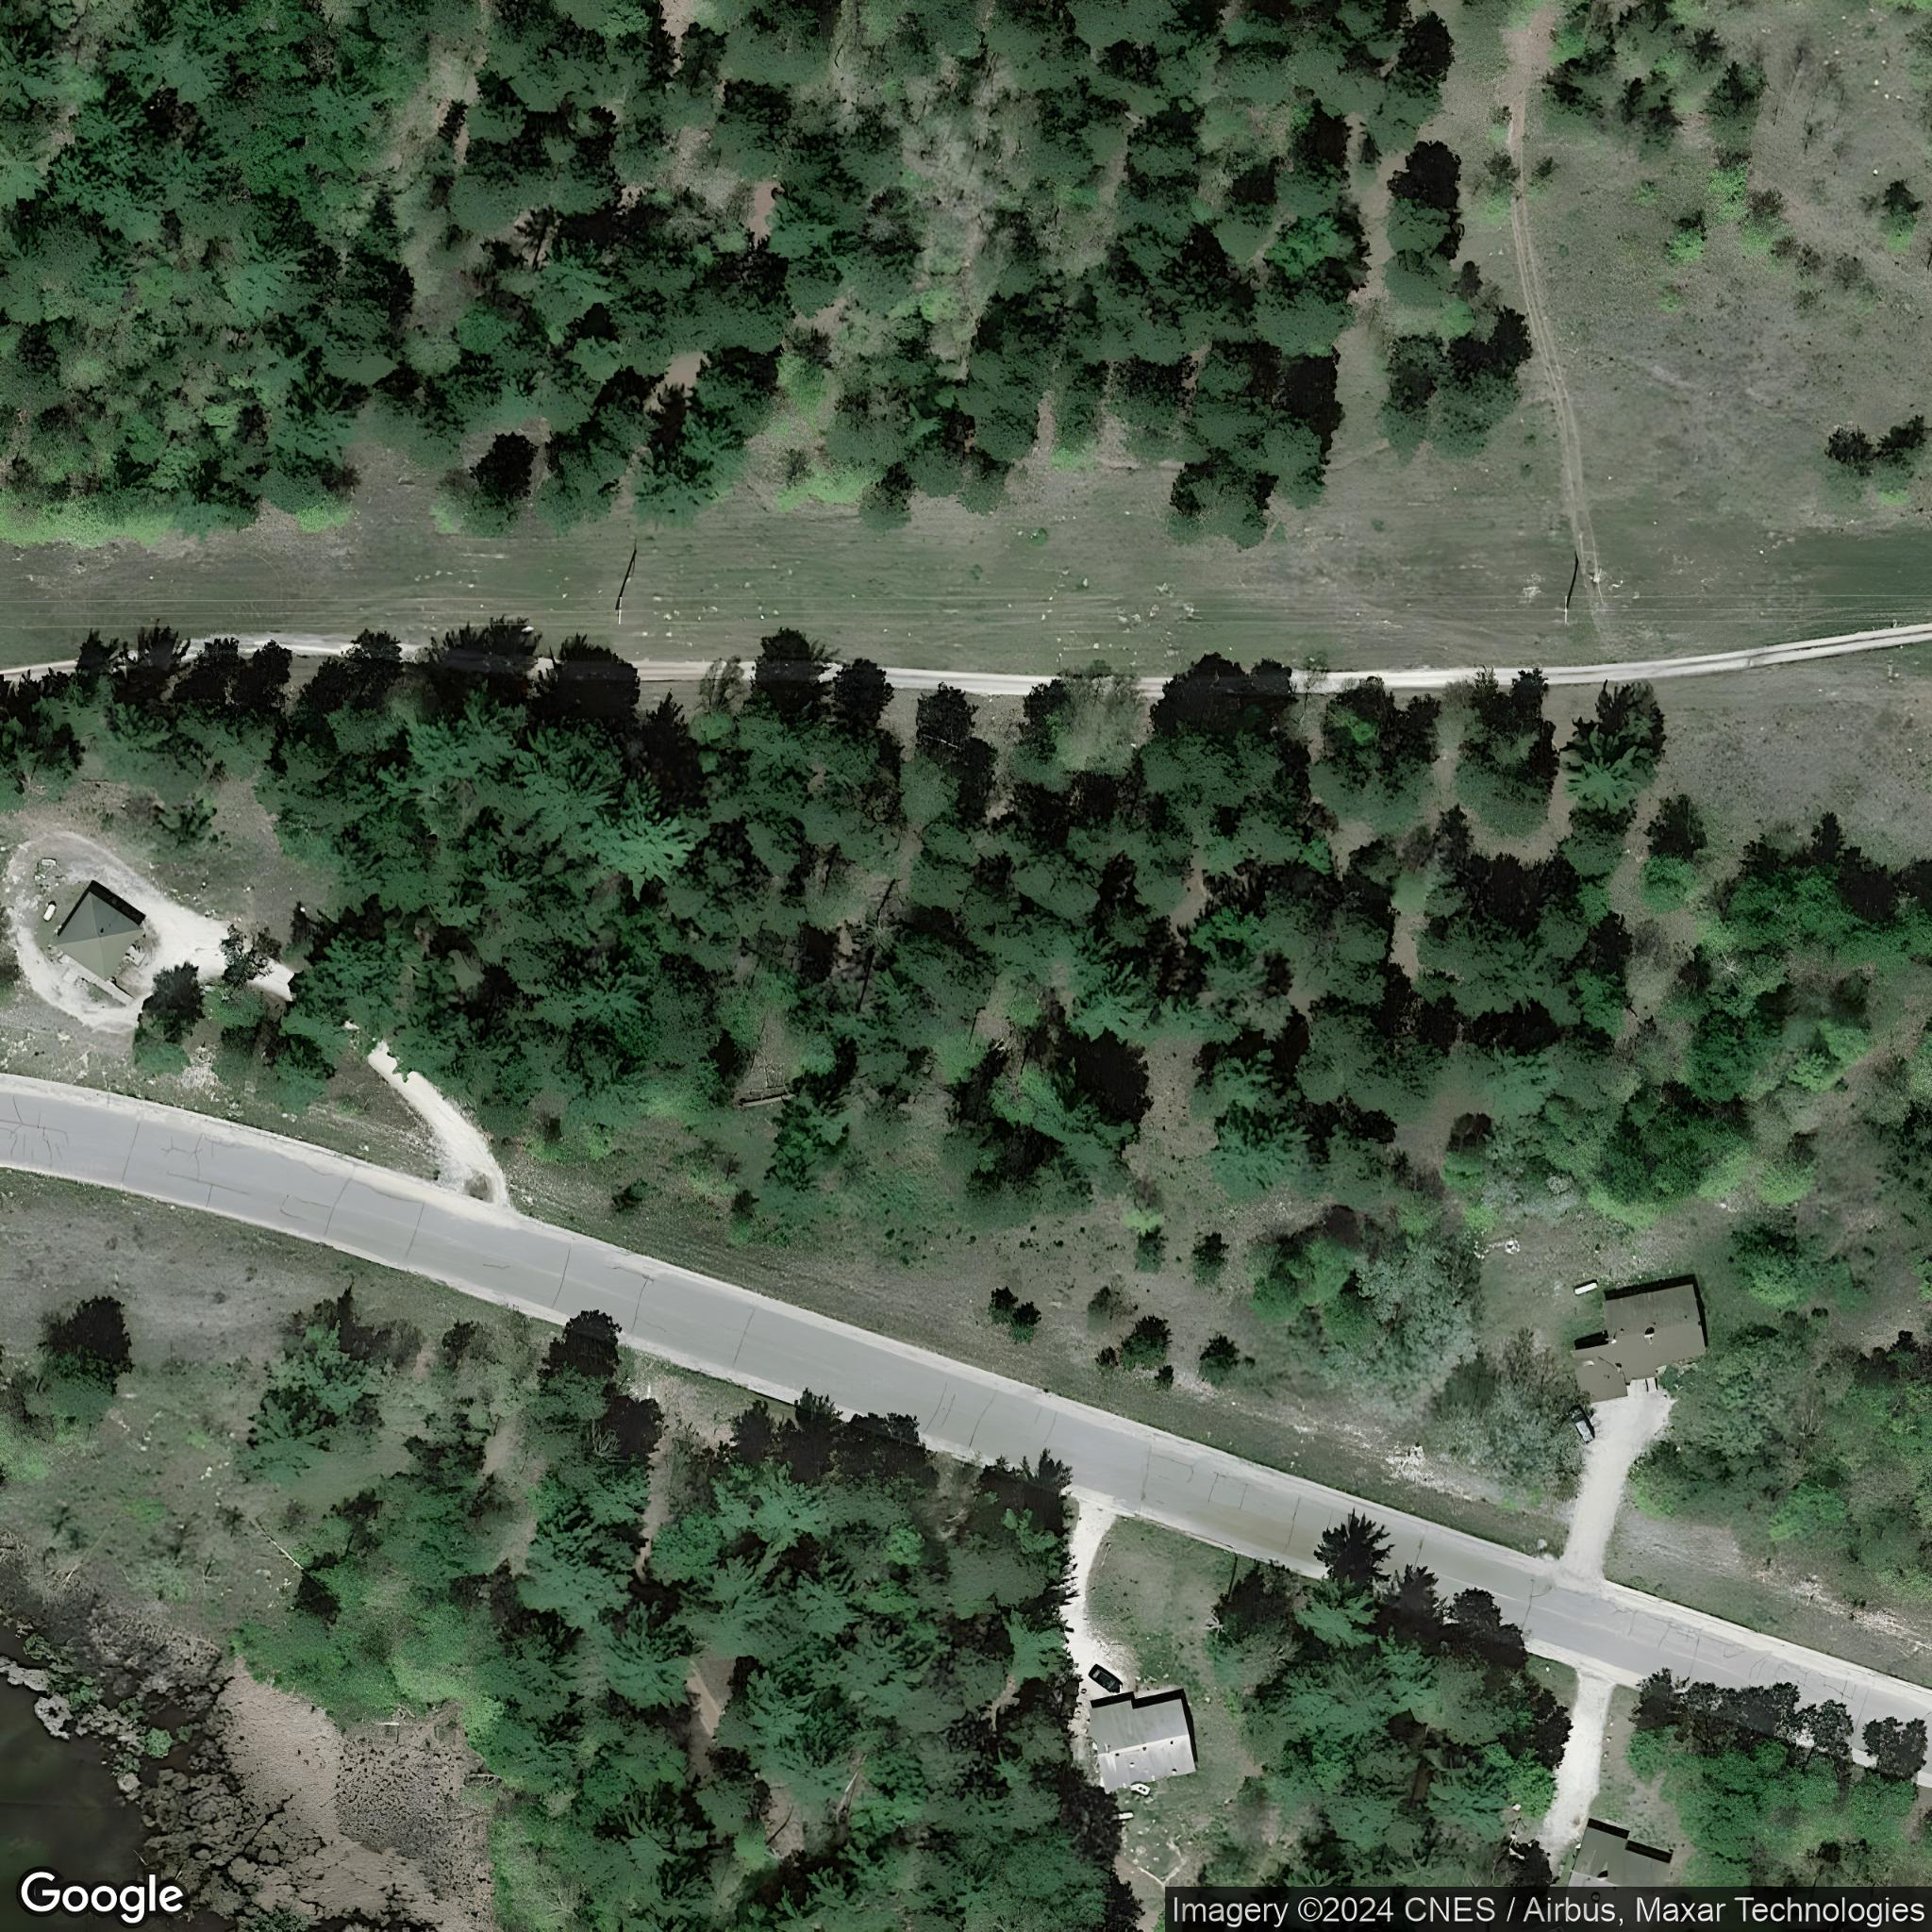House: (1568, 1281, 1709, 1405), (1086, 1698, 1200, 1796), (50, 888, 147, 984), (1566, 1824, 1672, 1886)
Propane: (1569, 1276, 1601, 1299), (39, 897, 58, 927), (1109, 1808, 1136, 1824)
